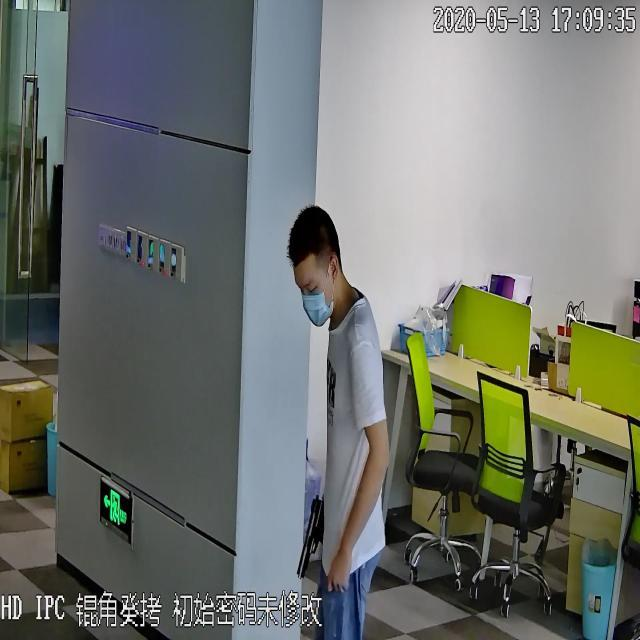gun: (293, 488, 329, 583)
